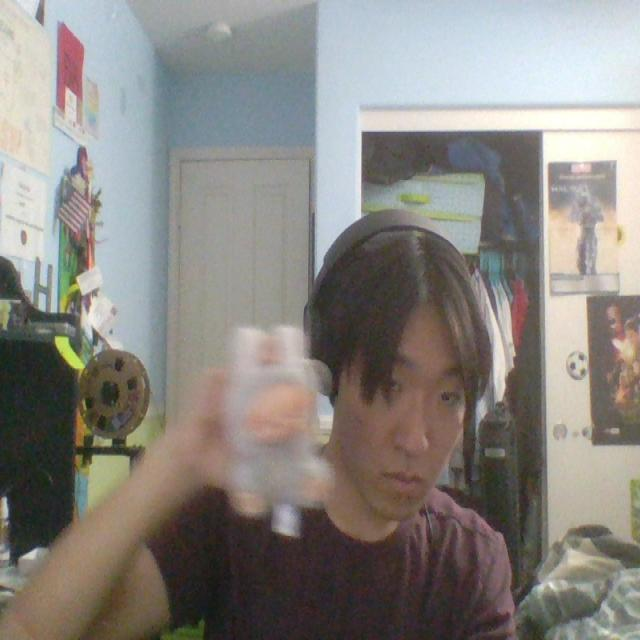labubu: (224, 325, 329, 535)
